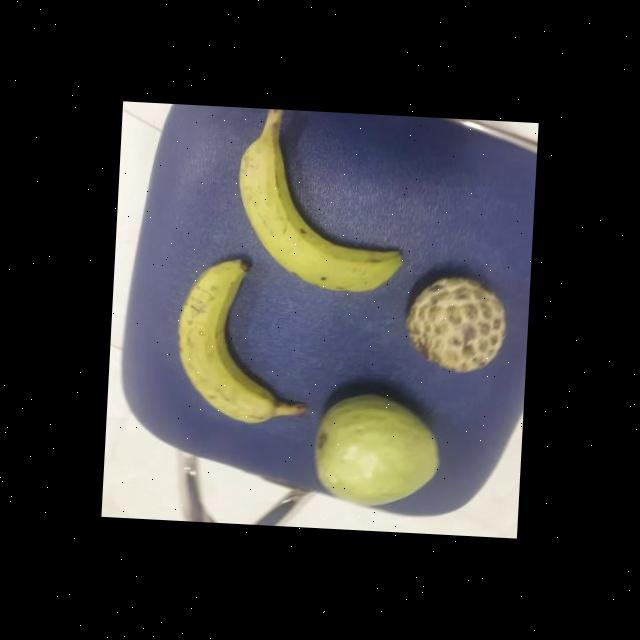Sakya fruit: (404, 274, 515, 375)
banana: (237, 114, 418, 294), (173, 256, 320, 428)
guava: (310, 388, 446, 514)
